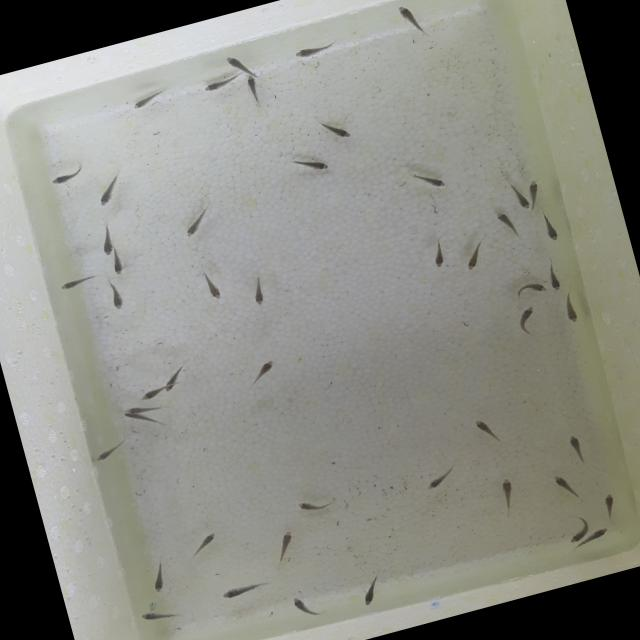fingerling: (556, 292, 590, 330), (141, 564, 177, 598), (288, 151, 328, 179), (458, 236, 490, 270), (212, 577, 255, 602), (140, 604, 183, 628), (357, 578, 388, 611), (560, 426, 590, 458), (420, 469, 456, 494), (319, 118, 351, 146), (492, 474, 520, 506), (42, 167, 80, 190), (544, 463, 574, 492), (294, 495, 330, 519), (224, 51, 253, 80), (541, 260, 567, 292), (556, 522, 590, 546), (179, 210, 209, 237), (509, 305, 538, 332), (95, 178, 121, 208), (516, 276, 547, 301), (112, 408, 150, 428), (250, 356, 280, 381), (508, 180, 530, 214), (105, 252, 133, 278), (94, 441, 130, 461), (238, 74, 261, 105), (424, 171, 456, 193), (394, 0, 419, 28), (194, 526, 223, 550), (290, 592, 316, 618), (494, 208, 518, 235), (95, 226, 118, 254), (426, 242, 449, 270), (472, 416, 496, 440), (128, 92, 160, 110), (199, 78, 230, 96), (122, 401, 159, 416), (274, 524, 295, 550), (248, 276, 268, 303), (582, 526, 612, 544), (542, 218, 562, 243), (523, 178, 542, 204), (292, 44, 322, 60), (60, 276, 91, 290), (204, 276, 222, 300), (134, 390, 160, 406), (162, 373, 182, 393), (598, 493, 616, 515), (107, 288, 123, 312)
